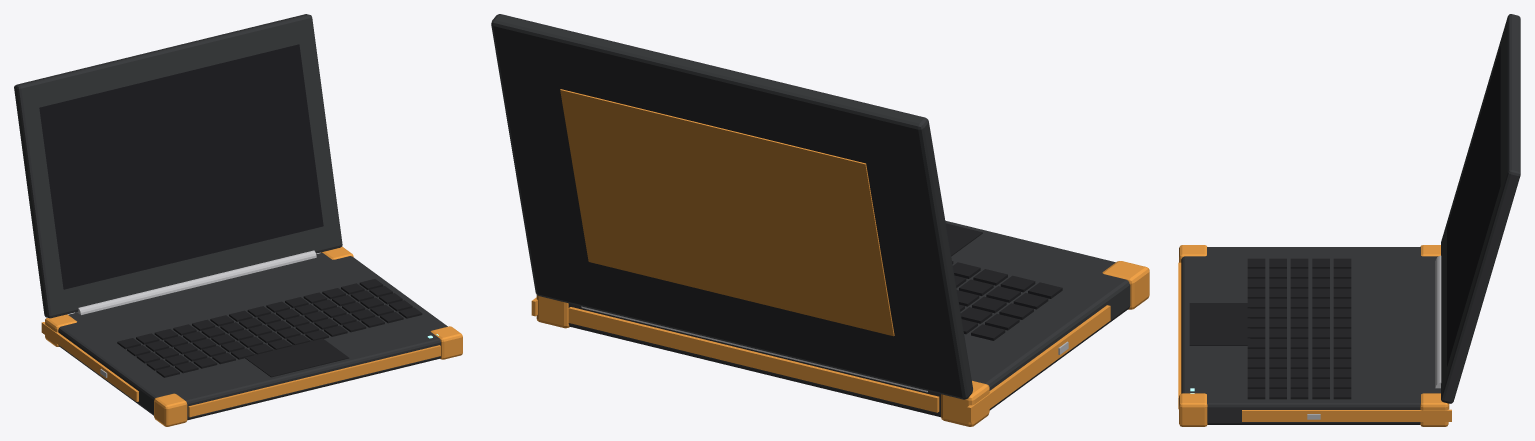
Rendered from ROOT_AE3_Laptop_Open.fbx.
3 views of the same model, side by side, from view 1: azimuth 30°, elevation 25°; view 2: azimuth 150°, elevation 25°; view 3: azimuth 270°, elevation 25° (orthographic). The views are drawn at different scales.
Parts seen in each view (by area): view 1: ROOT_AE3_Laptop_Open_LOD0; view 2: ROOT_AE3_Laptop_Open_LOD0; view 3: ROOT_AE3_Laptop_Open_LOD0.
Boxes of the visible parts, x1,y1,x2,y2 form: ROOT_AE3_Laptop_Open_LOD0: [14, 14, 462, 426]; ROOT_AE3_Laptop_Open_LOD0: [491, 14, 1149, 426]; ROOT_AE3_Laptop_Open_LOD0: [1178, 14, 1520, 426].
Size of what is drawn, in the model's own units: 34.76 by 25.66 by 30.98.
